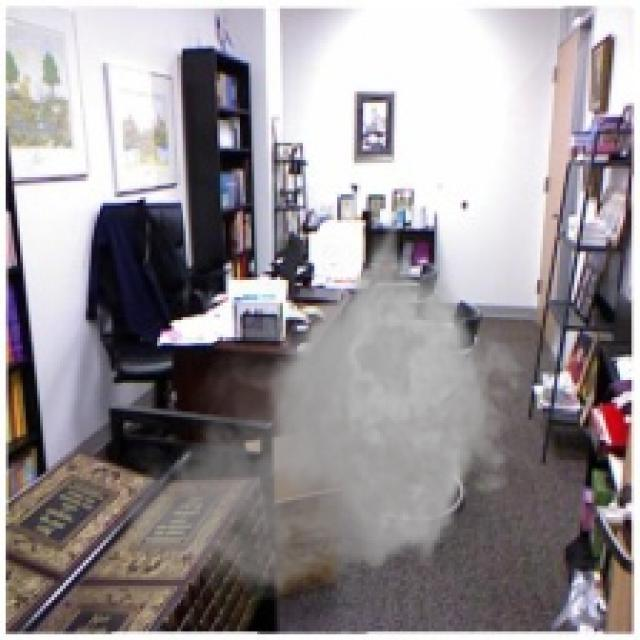smoke: (120, 197, 537, 612)
